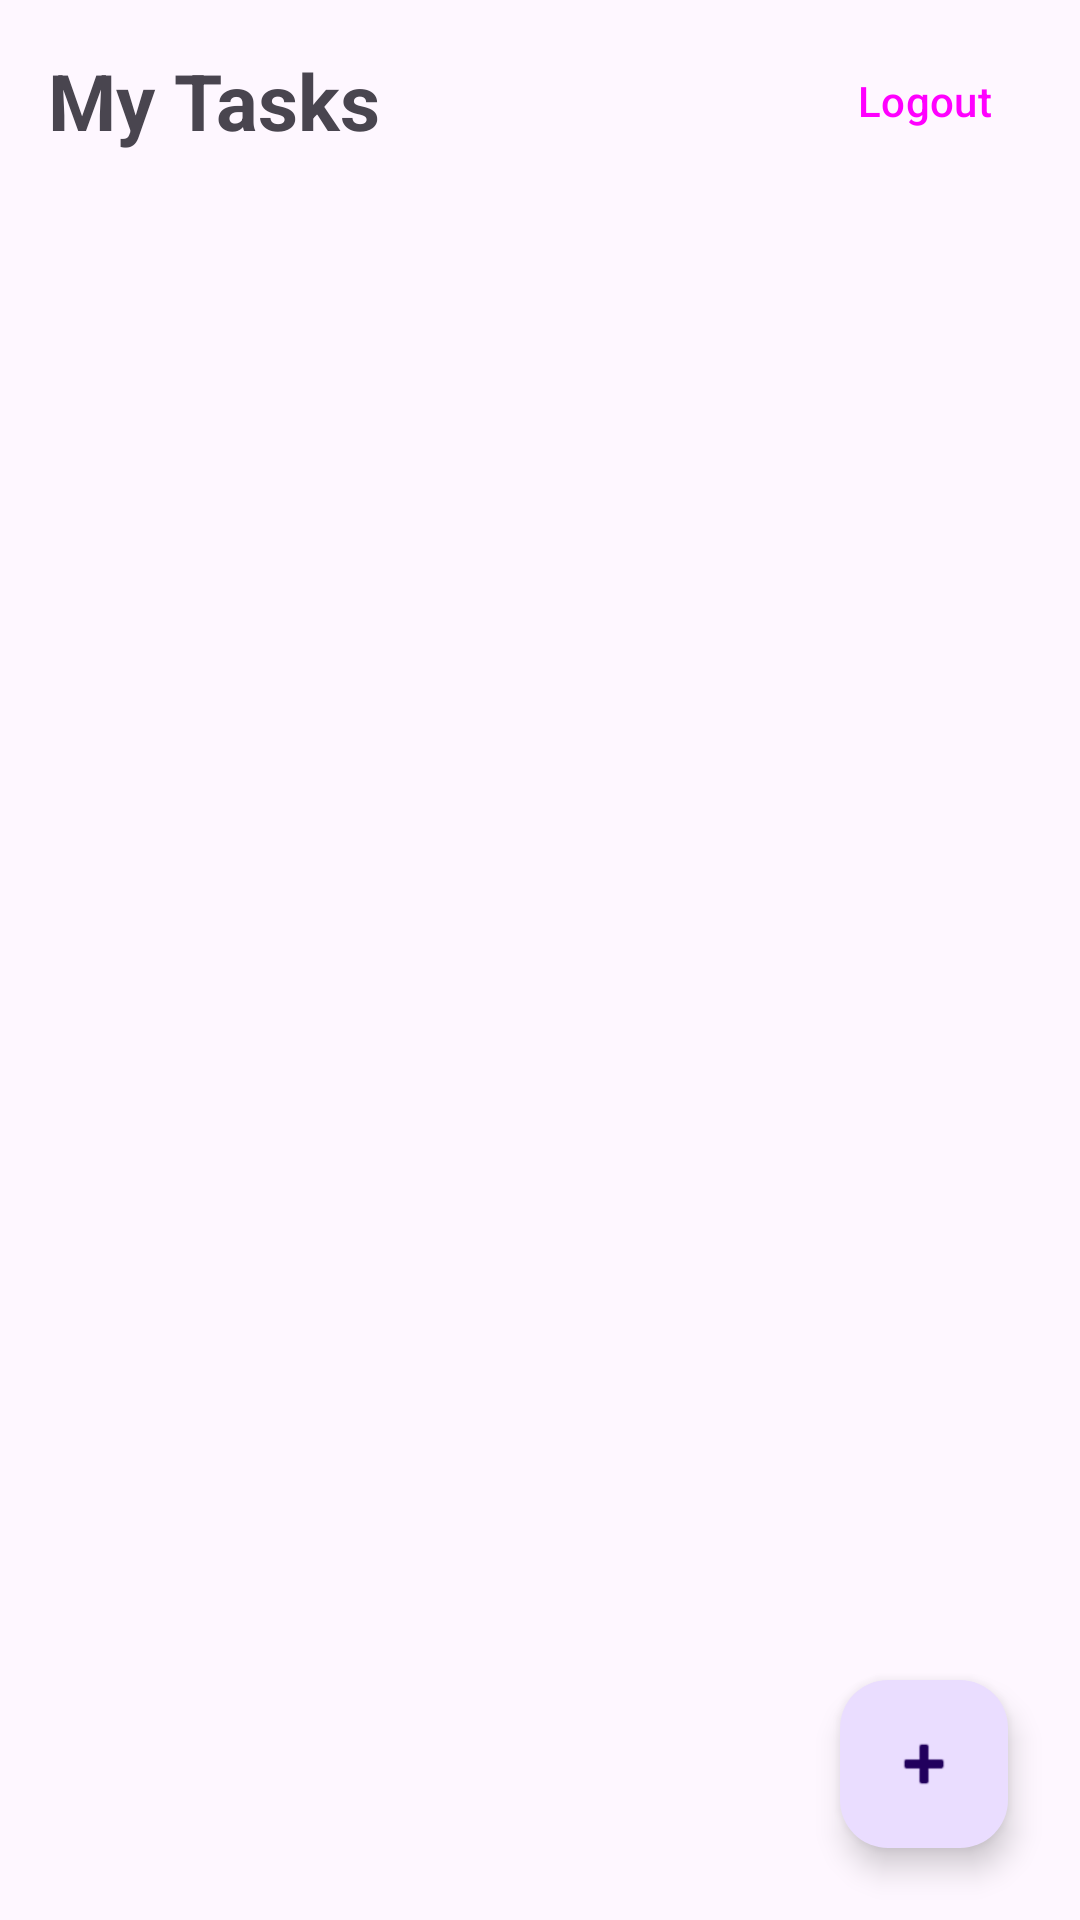

Named icons in this screenshot (1080px×1920px) and their centers, [x,y]:
Add task: [924,1764]
